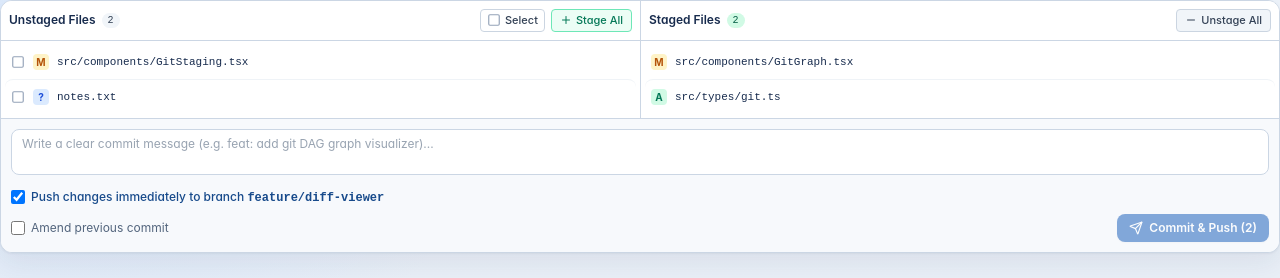
it: Git Manager Frontend Components › 3. GitStagingPanel Component › supports amend commit option
Click the checkbox labelled "Amend previous commit": (18, 228) 11,220 -> 25,234
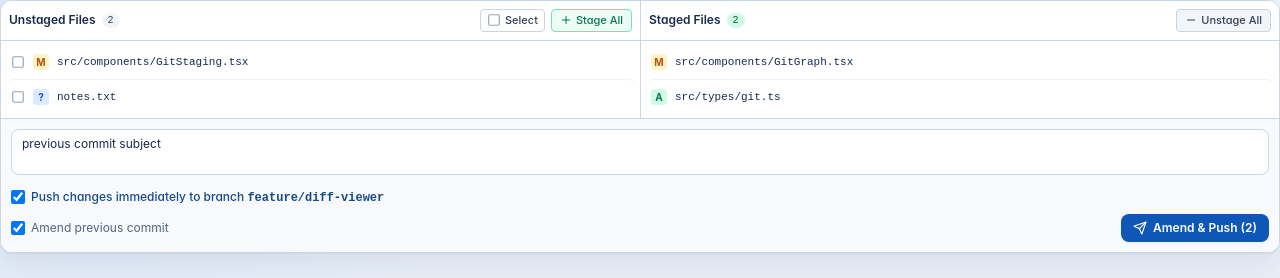
Now the text box with placeholder "Write a clear commit message" holds "previous commit subject", box 11,128 -> 1269,174
